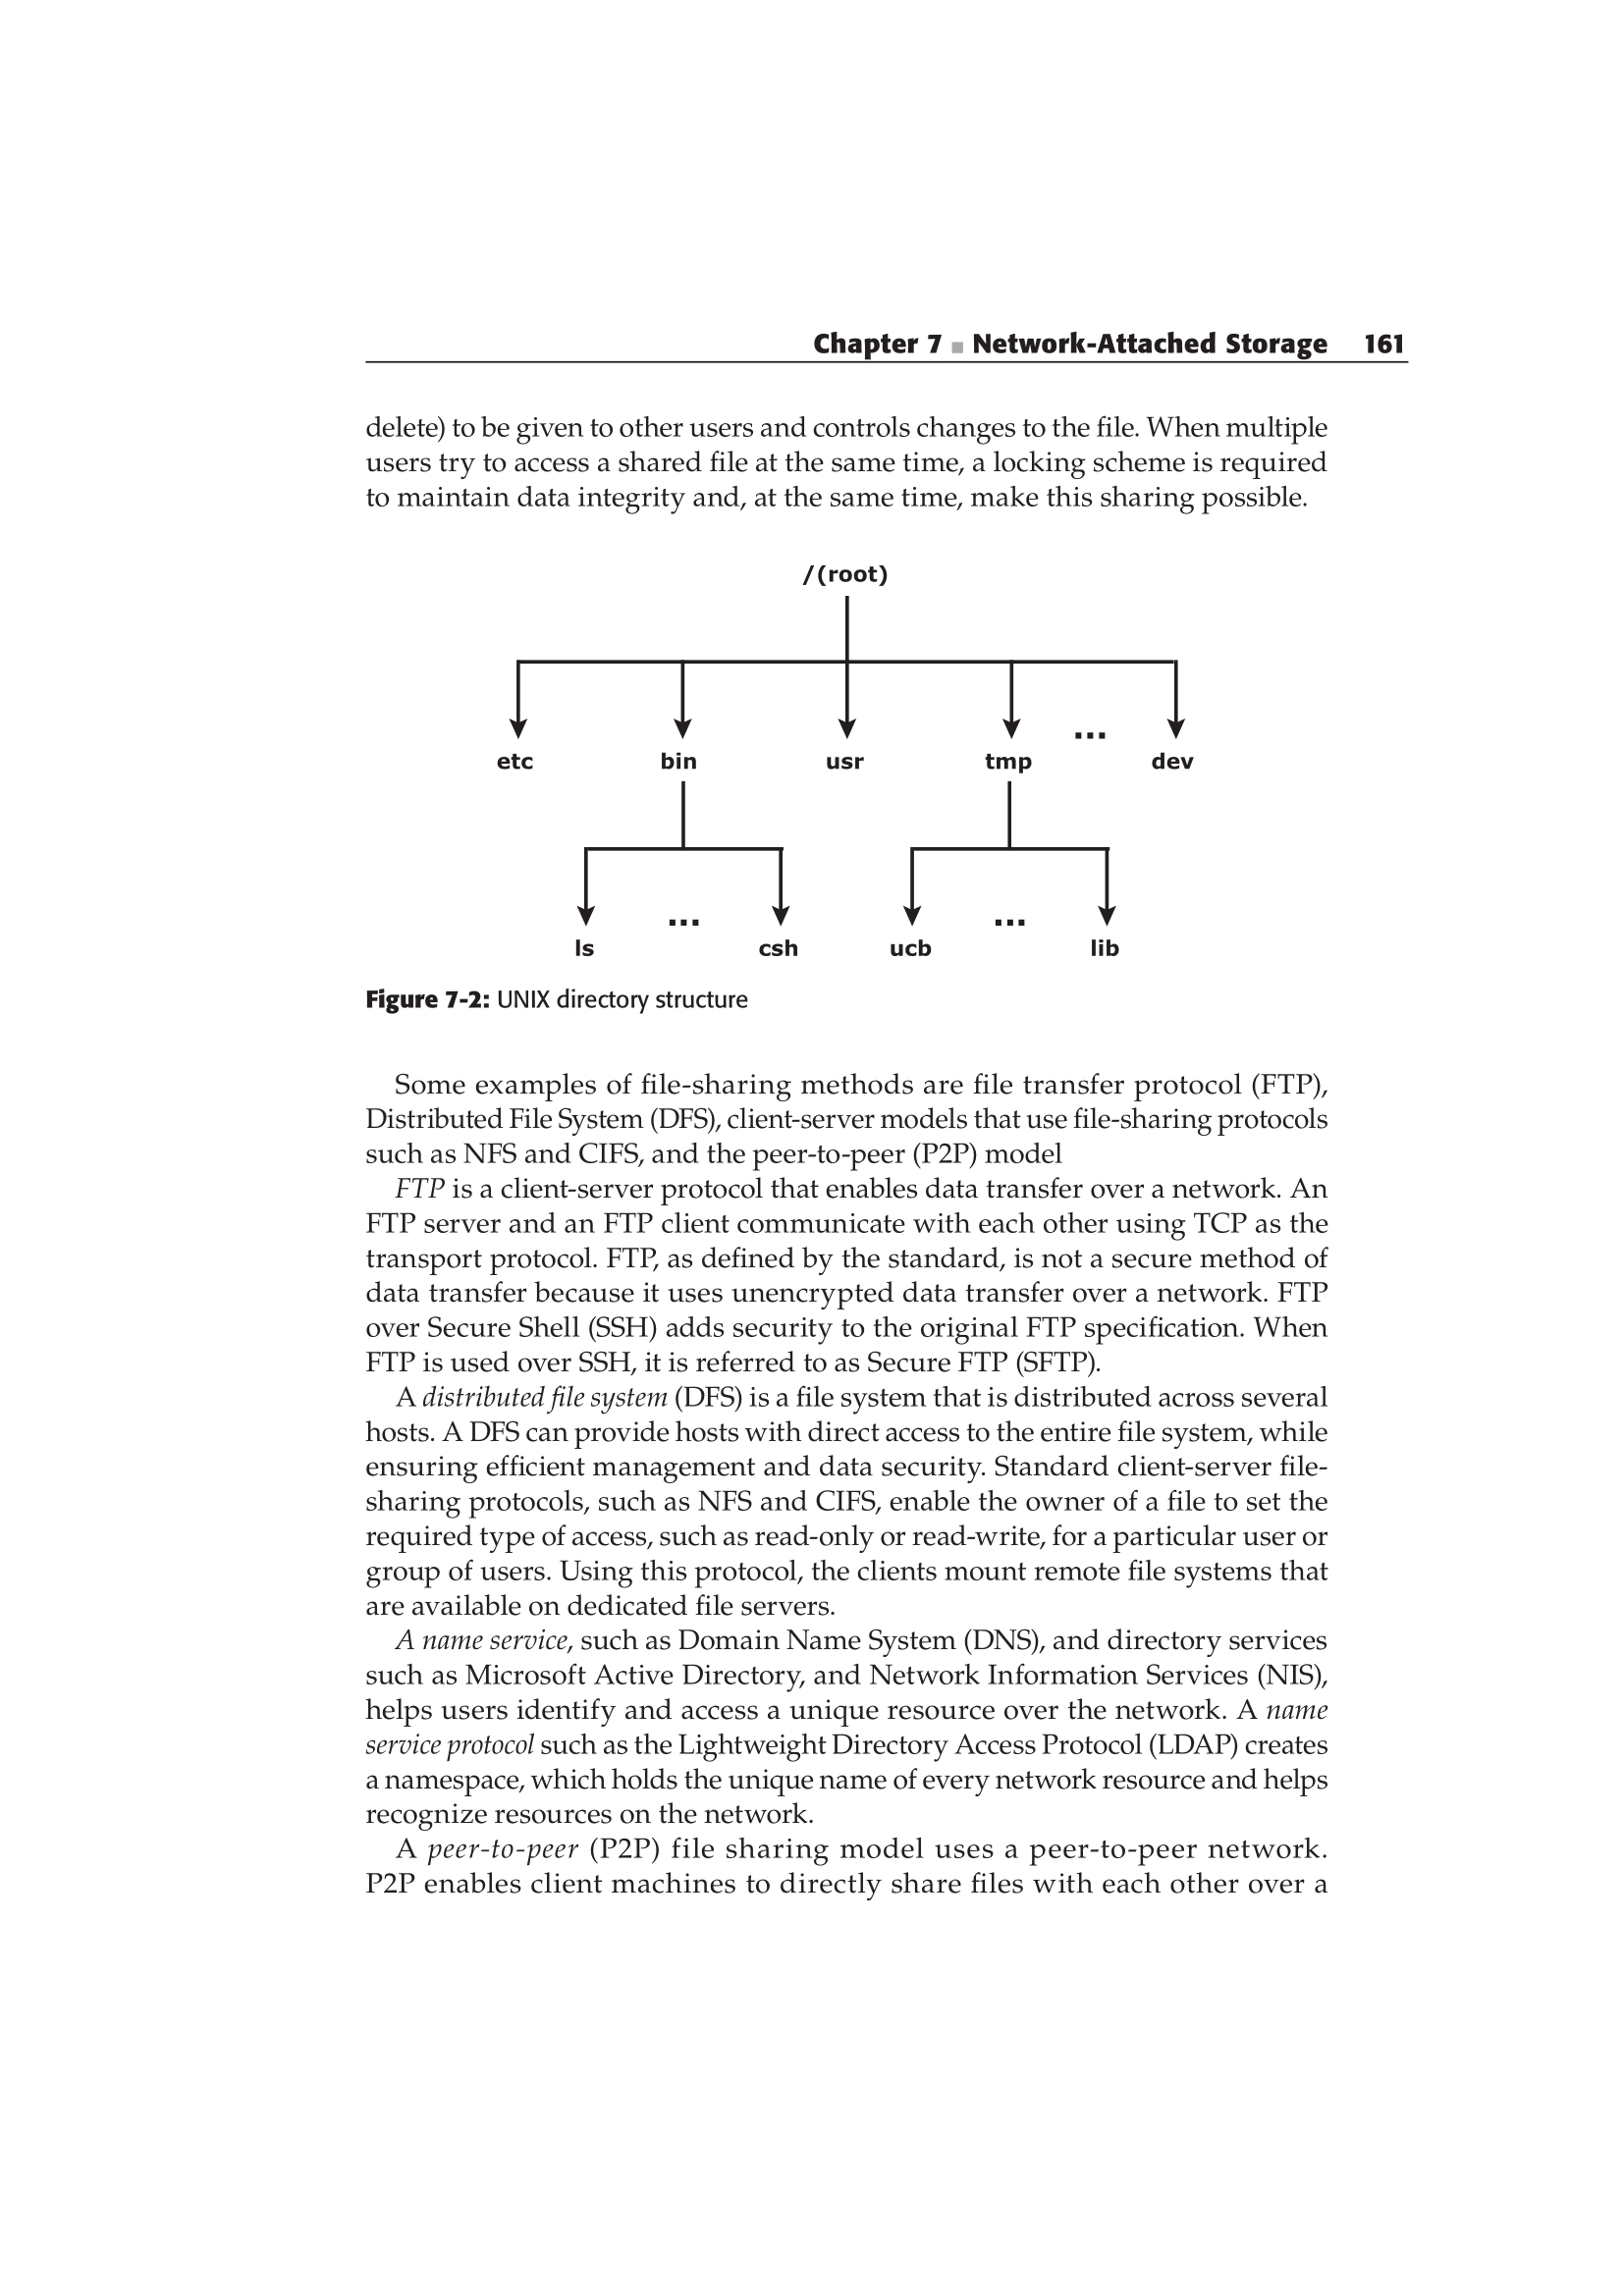Image: (197, 553, 1593, 967)
Paragraph: (230, 1043, 1488, 1915), (276, 381, 1403, 516), (704, 263, 1479, 369), (263, 981, 822, 1027)
